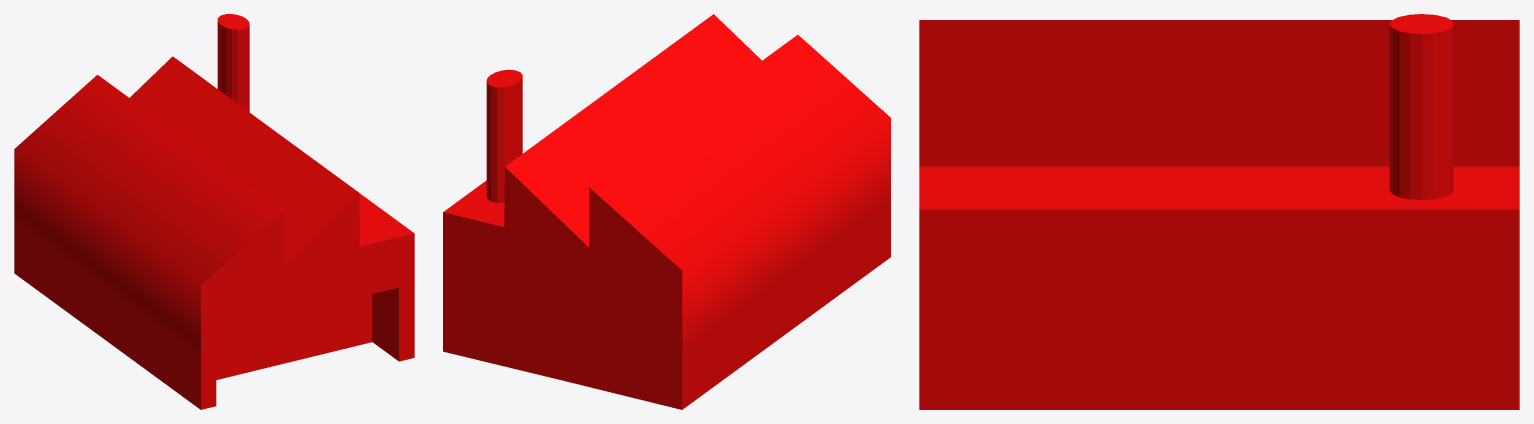
Rendered from Edificio1.fbx.
3 renders of one model, left to right at view 1: azimuth 30°, elevation 25°; view 2: azimuth 150°, elevation 25°; view 3: azimuth 270°, elevation 25°, orthographic. The views are drawn at different scales.
Parts seen in each view (by area): view 1: Iglesia; view 2: Iglesia; view 3: Iglesia.
Part boxes in pixels (bbox=[...]): Iglesia: bbox=[14, 14, 414, 409]; Iglesia: bbox=[443, 14, 890, 409]; Iglesia: bbox=[919, 14, 1519, 409].
Size of the model in its own units: 64.5 by 65.69 by 97.49.
